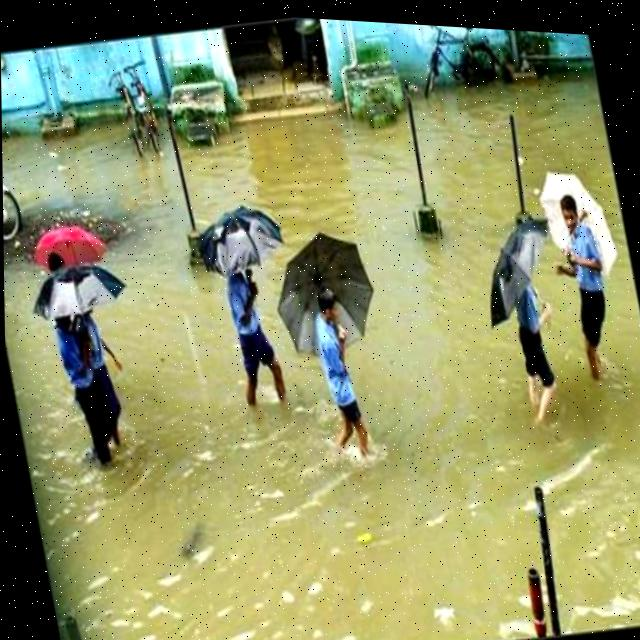civilian: (539, 184, 634, 399), (208, 252, 296, 432), (301, 273, 381, 470), (498, 269, 580, 446), (45, 298, 118, 482), (71, 297, 144, 466), (45, 249, 71, 285)
